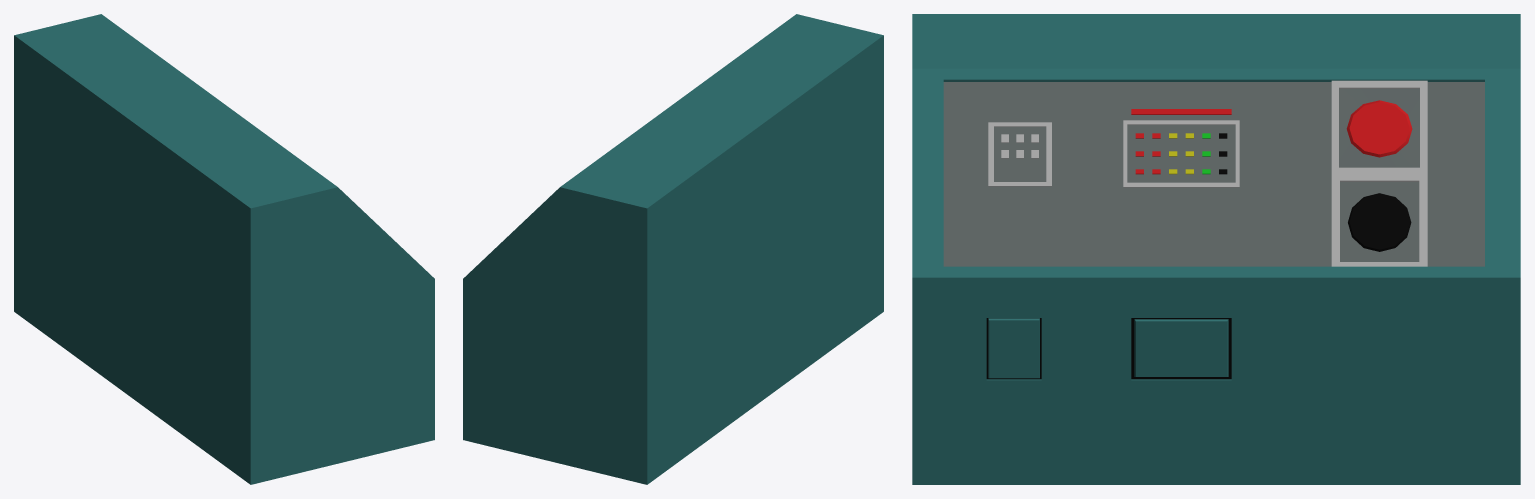
Rendered from machine.fbx.
The picture shows the model from 3 angles, left to right: view 1: azimuth 30°, elevation 25°; view 2: azimuth 150°, elevation 25°; view 3: azimuth 270°, elevation 25°; orthographic projection. The views are drawn at different scales.
Visible parts, largest first — view 1: machine; view 2: machine; view 3: machine.
Part boxes in pixels (box(x1,y1,x2,y2)): machine: box(14, 14, 434, 484); machine: box(463, 14, 883, 484); machine: box(912, 14, 1520, 484).
Size of the model in its own units: 239 by 343 by 532.
